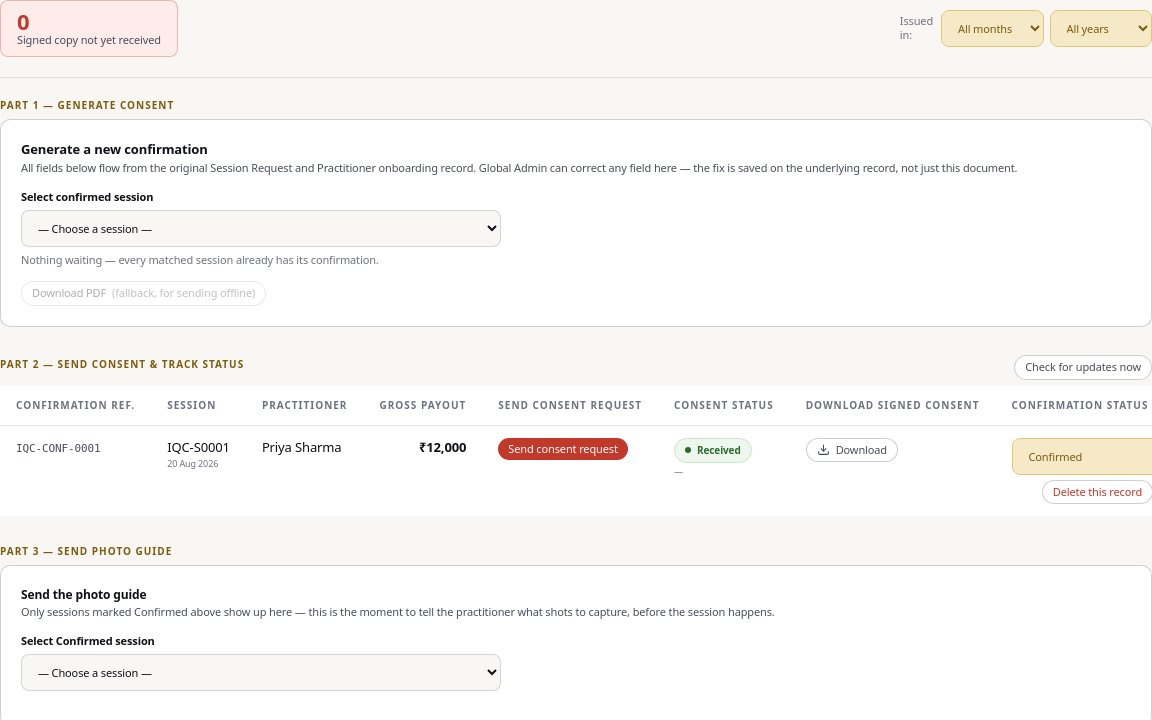
Test case: Part 3 — Send Photo Guide › shows V7's four fields for the session picked
The width and height of the screenshot is (1152, 720).
Select "IQC-S0001 — Priya Sharma — Equity Investing Simplified" in the dropdown named "select confirmed session to send" at (261, 672), box [21,654,501,691]
(page scrolled)
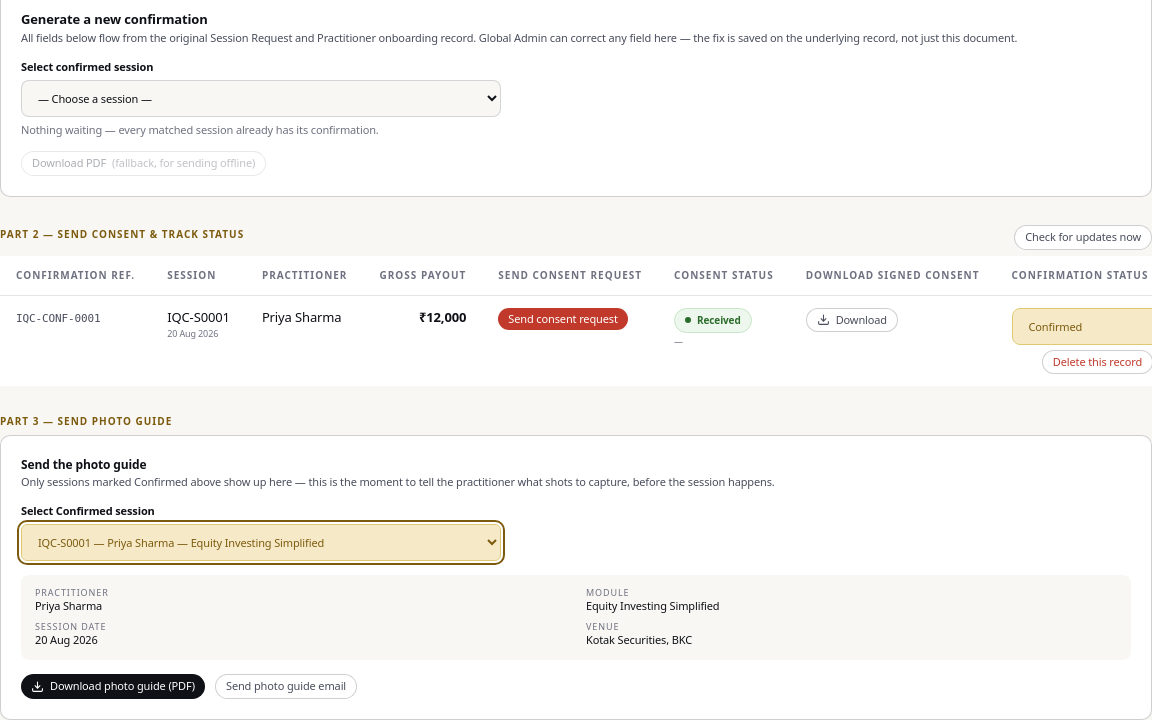
Now the text "Practitioner" is shown, box [35,586,109,599]
Now the text "Module" is shown, box [586,586,630,599]
Now the text "Session date" is shown, box [35,620,106,633]
